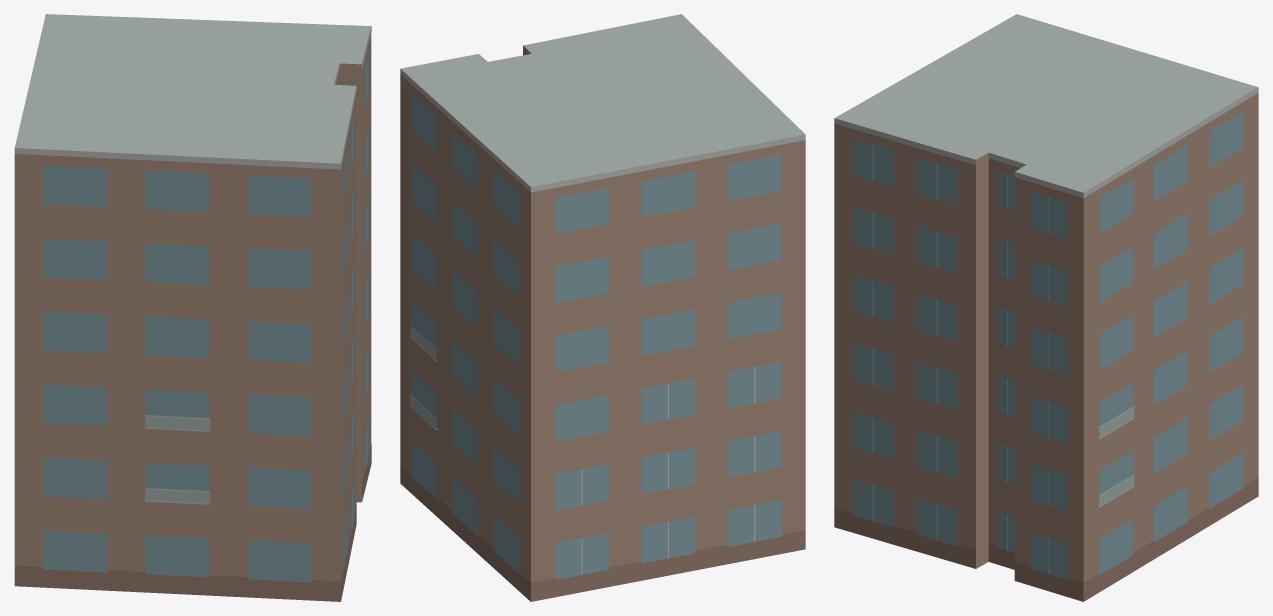
File: survey-upis-32955450.glb
The picture shows the model from 3 angles, left to right: view 1: azimuth 30°, elevation 25°; view 2: azimuth 150°, elevation 25°; view 3: azimuth 270°, elevation 25°; orthographic projection. The views are drawn at different scales.
Visible parts, largest first — view 1: survey-upis-32955450.tmp; view 2: survey-upis-32955450.tmp; view 3: survey-upis-32955450.tmp.
Boxes of the visible parts, bbox=[...] form: survey-upis-32955450.tmp: bbox=[14, 14, 371, 601]; survey-upis-32955450.tmp: bbox=[400, 14, 805, 601]; survey-upis-32955450.tmp: bbox=[834, 14, 1258, 601].
Size of the model in its own units: 17.16 by 18.3 by 17.21.
